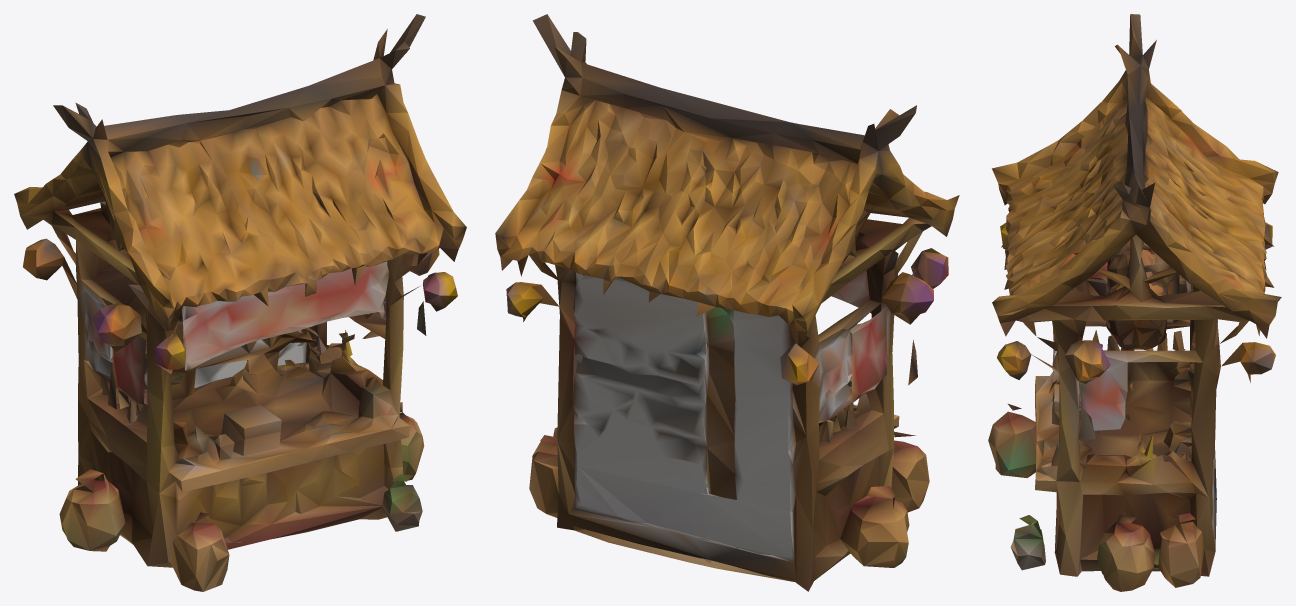
File: bq_lantern_shop.vc.glb
3 renders of one model, left to right at view 1: azimuth 30°, elevation 25°; view 2: azimuth 150°, elevation 25°; view 3: azimuth 270°, elevation 25°, orthographic. The views are drawn at different scales.
Parts seen in each view (by area): view 1: bq_lantern_shop; view 2: bq_lantern_shop; view 3: bq_lantern_shop.
Boxes of the visible parts, left/top/right/bottom form: bq_lantern_shop: left=14, top=14, right=466, bottom=591; bq_lantern_shop: left=495, top=14, right=959, bottom=591; bq_lantern_shop: left=988, top=14, right=1281, bottom=591.
Bounding box in the file's own units: 1.62 × 1.9 × 1.19.
